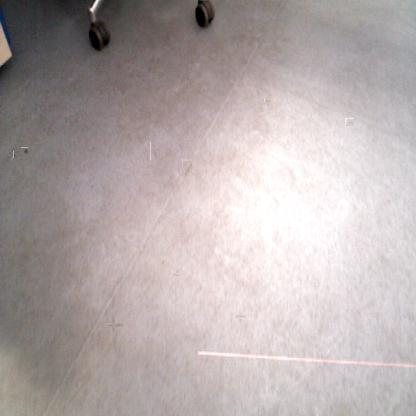mark: (182, 160, 192, 178), (107, 320, 119, 332), (150, 142, 157, 160), (236, 313, 246, 321), (173, 270, 180, 278), (21, 147, 28, 154), (346, 118, 353, 125), (13, 150, 18, 158), (90, 182, 94, 190), (265, 98, 271, 103)
